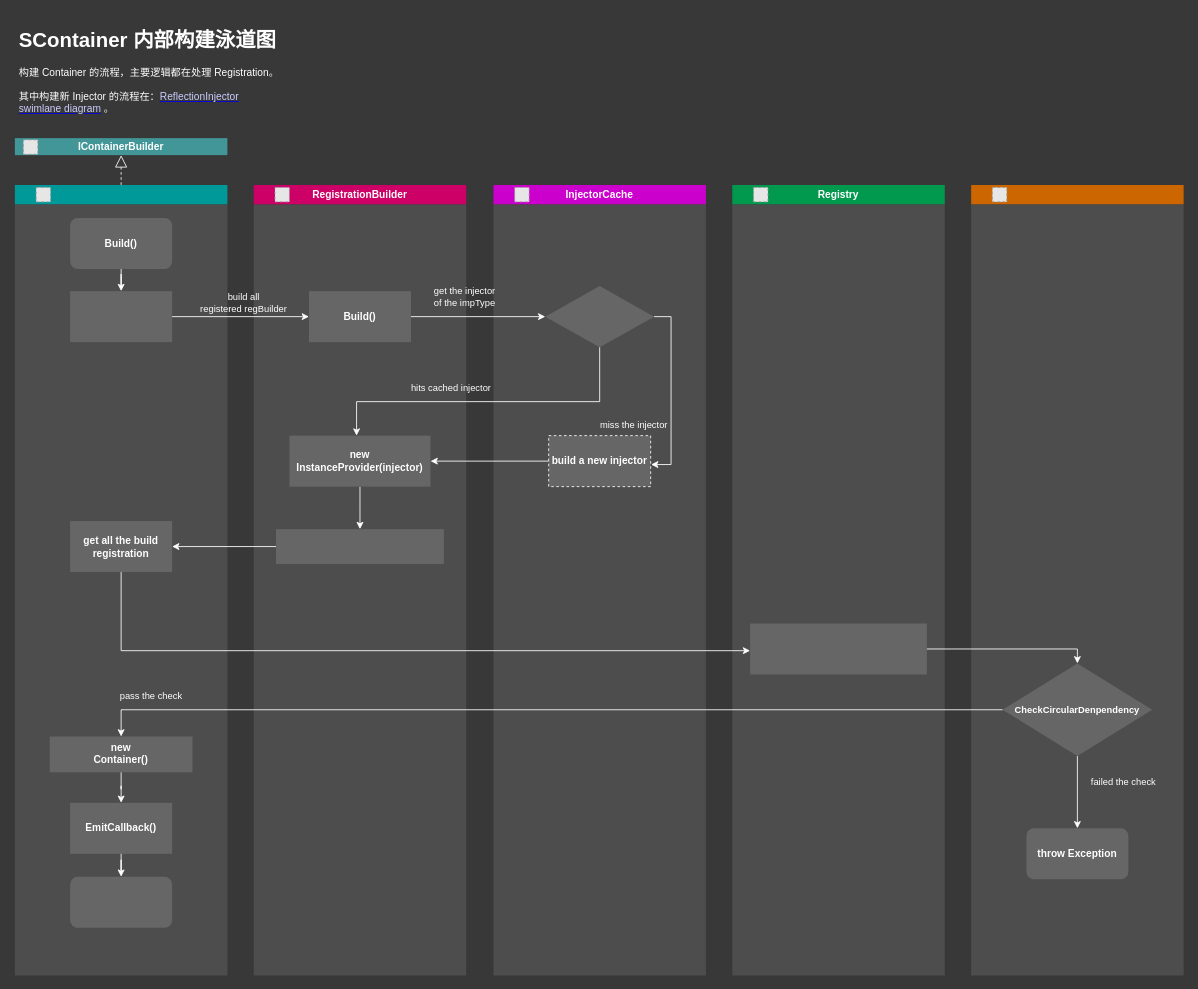
The diagram is 1198 pixels wide and 989 high, and some of its shapes have lost their labels. Grey dashed boxes stand in for pictures. Each missing label, with the box of its shape:
BuildRegistry(): (70, 291, 172, 342)
ContainerBuilder: (14, 184, 227, 975)
GetOrBuild(): (545, 286, 654, 347)
new Registration(): (276, 529, 443, 564)
Registry.Build(regtrations): (750, 623, 926, 674)
return Container: (70, 876, 172, 927)
TypeAnalyzer: (971, 184, 1183, 975)
